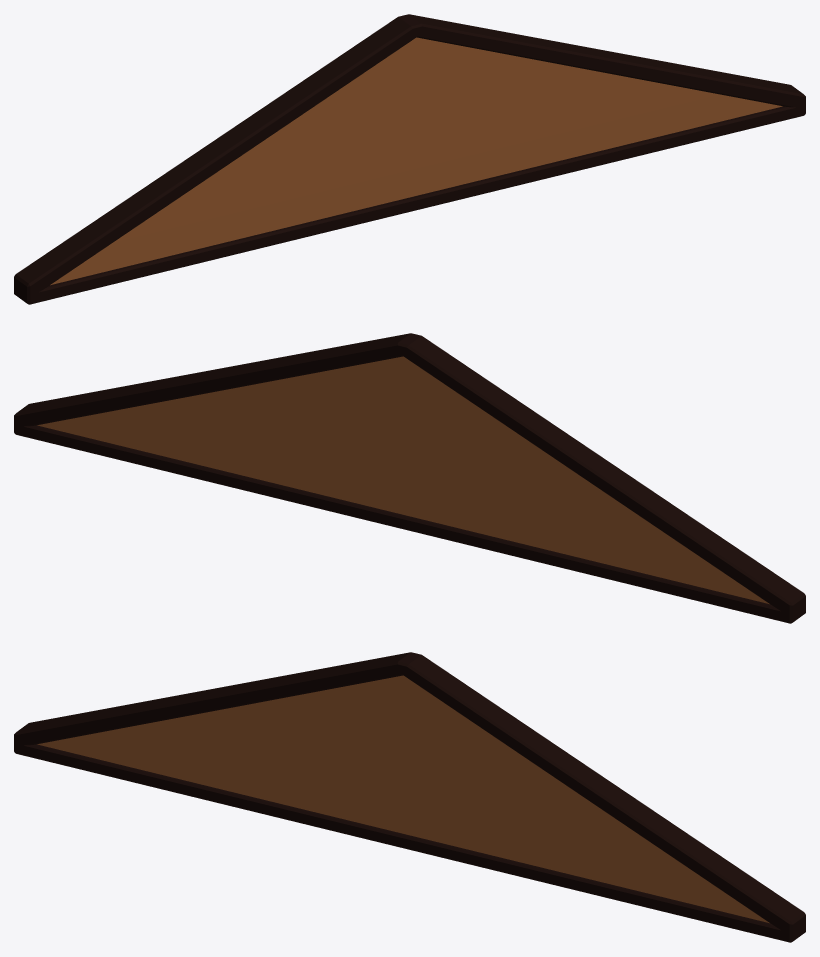
The model's file is ww_sign_e.glb.
3 renders of one model, top to bottom at view 1: azimuth 30°, elevation 25°; view 2: azimuth 150°, elevation 25°; view 3: azimuth 330°, elevation 25°, orthographic.
Parts seen in each view (by area): view 1: Sign_E; view 2: Sign_E; view 3: Sign_E.
Part boxes in pixels (<box>): Sign_E: <box>14,14,805,304</box>; Sign_E: <box>14,333,805,623</box>; Sign_E: <box>14,652,805,942</box>.
Size of the model in its own units: 10.56 by 2.4 by 0.3609.
